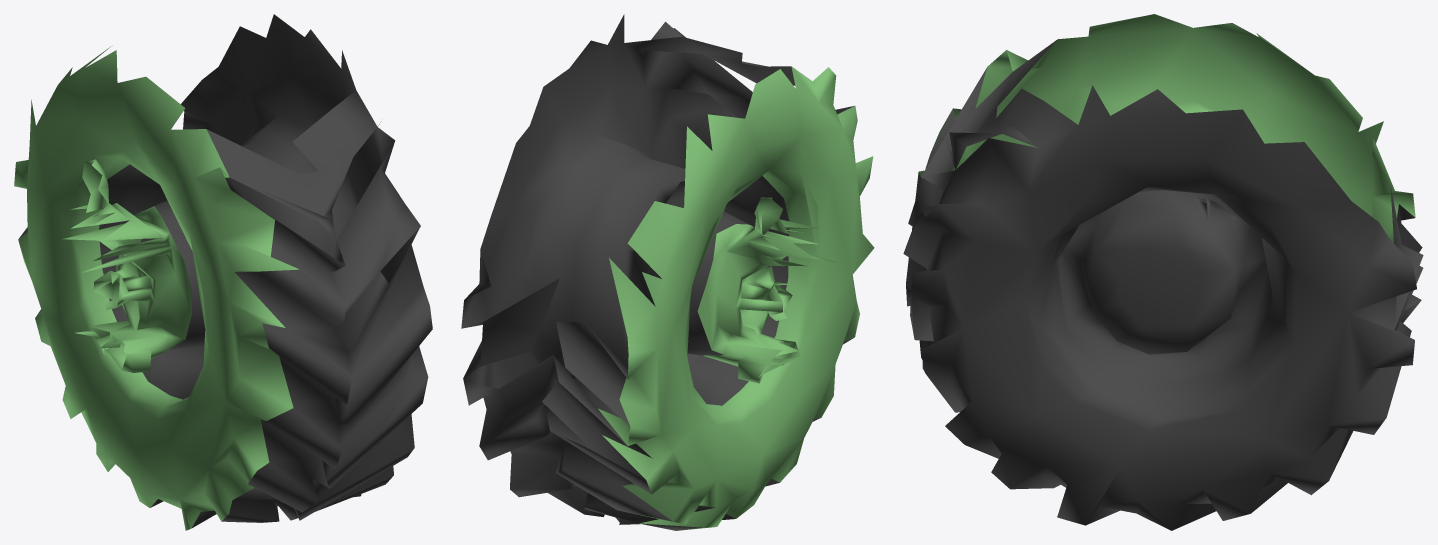
File: john-deere-8r.roued.glb
3 views of the same model, side by side, from view 1: azimuth 30°, elevation 25°; view 2: azimuth 150°, elevation 25°; view 3: azimuth 270°, elevation 25° (orthographic). The views are drawn at different scales.
Bounding box in the file's own units: 0.9011 × 1.57 × 1.63.
